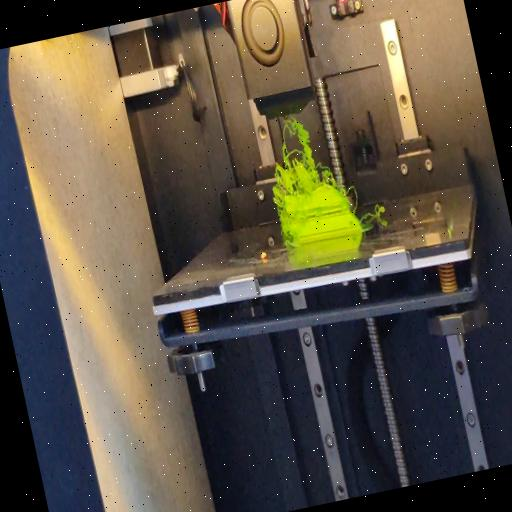spaghetti: (256, 106, 336, 200), (274, 197, 292, 252), (358, 202, 387, 224), (346, 182, 360, 208)
